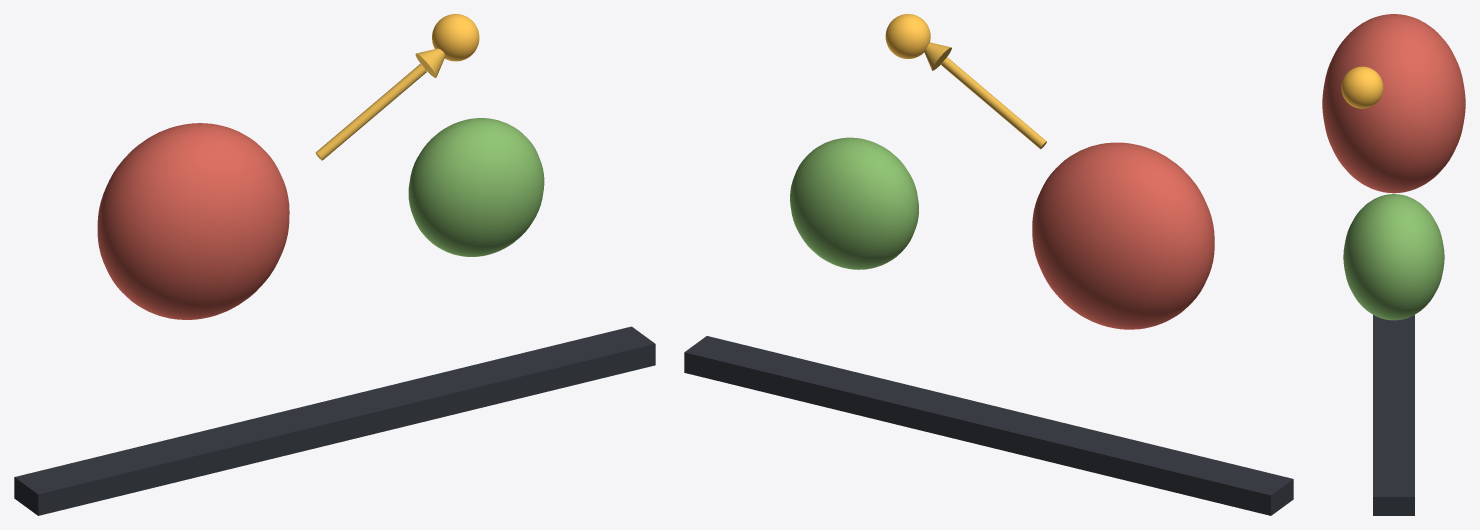
Rendered from physics-modern-radioactive-decay.glb.
The picture shows the model from 3 angles, left to right: view 1: azimuth 30°, elevation 25°; view 2: azimuth 150°, elevation 25°; view 3: azimuth 270°, elevation 25°; orthographic projection. The views are drawn at different scales.
Visible parts, largest first — view 1: unstable-nucleus-before-decay, modern-physics-bench, daughter-nucleus-after-decay, emitted-particle, emission-radiation-event-shaft; view 2: unstable-nucleus-before-decay, modern-physics-bench, daughter-nucleus-after-decay, emitted-particle, emission-radiation-event-shaft; view 3: unstable-nucleus-before-decay, daughter-nucleus-after-decay, modern-physics-bench, emitted-particle.
Boxes of the visible parts, bbox=[...] form: unstable-nucleus-before-decay: bbox=[97, 123, 289, 319]; modern-physics-bench: bbox=[14, 326, 655, 515]; daughter-nucleus-after-decay: bbox=[408, 118, 544, 256]; emitted-particle: bbox=[432, 14, 479, 61]; emission-radiation-event-shaft: bbox=[315, 64, 426, 160]; unstable-nucleus-before-decay: bbox=[1032, 142, 1214, 329]; modern-physics-bench: bbox=[684, 336, 1293, 515]; daughter-nucleus-after-decay: bbox=[790, 137, 918, 269]; emitted-particle: bbox=[885, 14, 930, 58]; emission-radiation-event-shaft: bbox=[941, 57, 1046, 149]; unstable-nucleus-before-decay: bbox=[1322, 14, 1465, 193]; daughter-nucleus-after-decay: bbox=[1343, 194, 1444, 320]; modern-physics-bench: bbox=[1373, 315, 1414, 515]; emitted-particle: bbox=[1341, 66, 1383, 108].
Size of what is drawn, in the model's own units: 2.4 by 1.5 by 0.544.
